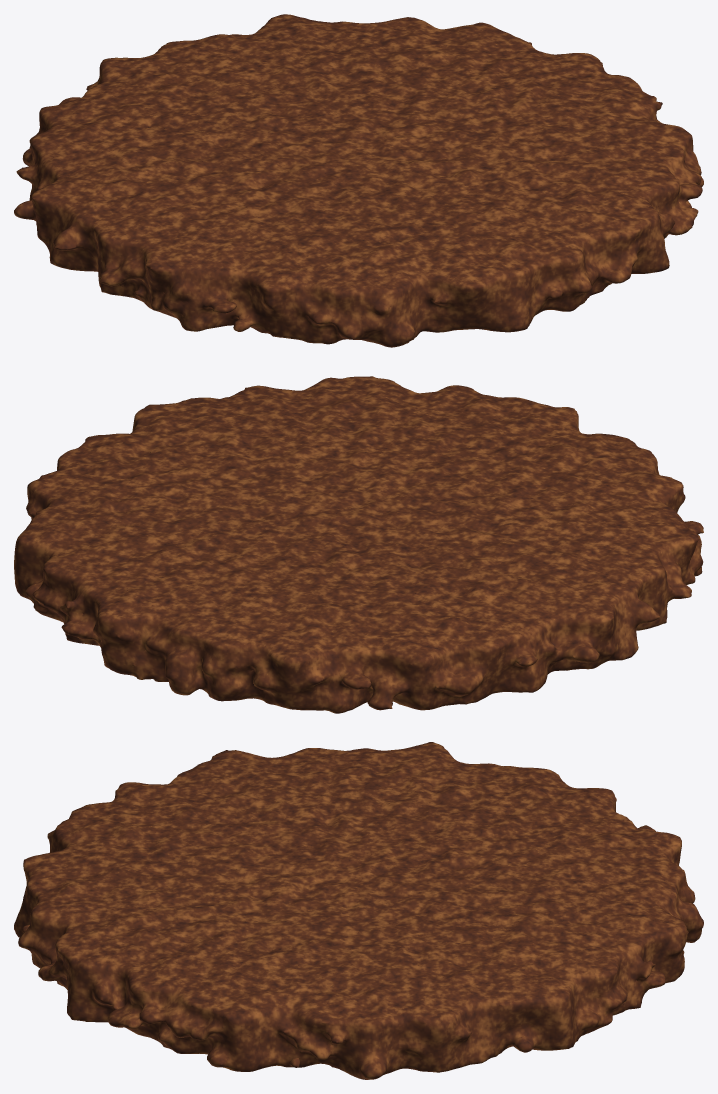
Rendered from smash-beef.glb.
3 views of the same model, one above another, from view 1: azimuth 30°, elevation 25°; view 2: azimuth 150°, elevation 25°; view 3: azimuth 270°, elevation 25° (orthographic).
Parts seen in each view (by area): view 1: smash-beef; view 2: smash-beef; view 3: smash-beef.
Boxes of the visible parts, x1=… form: smash-beef: x1=14, y1=14, x2=703, y2=347; smash-beef: x1=14, y1=376, x2=703, y2=713; smash-beef: x1=14, y1=742, x2=703, y2=1079.
Size of the model in its own units: 2.34 by 0.2711 by 2.29.
Materials: 1 (1 with a texture image).
